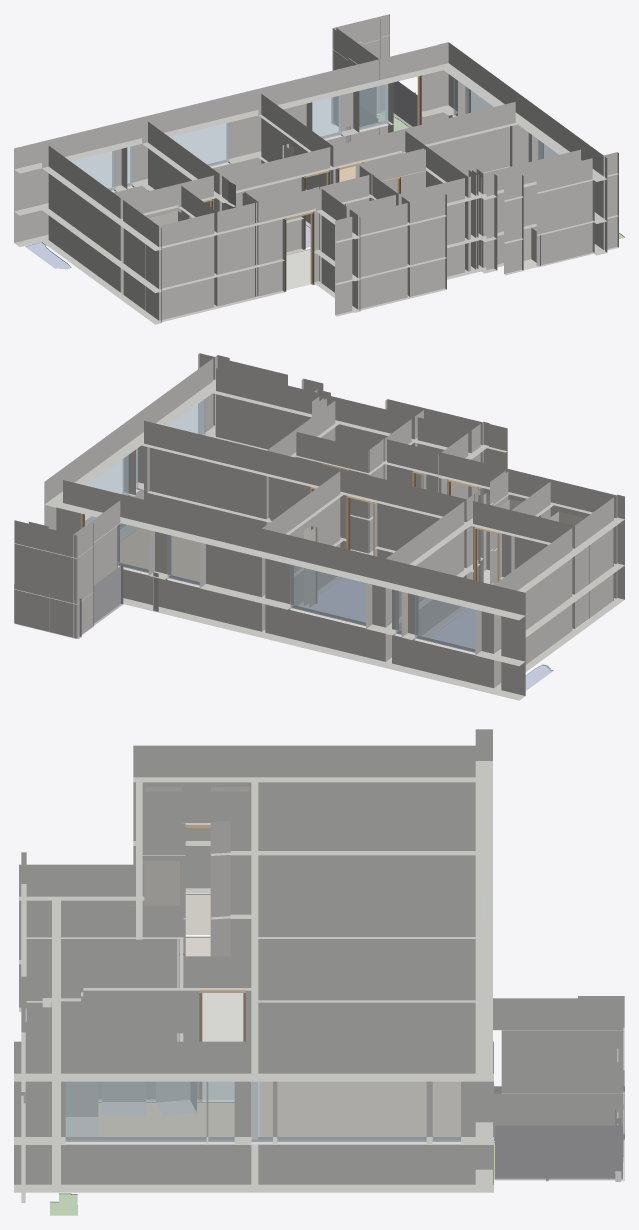
The picture shows the model from 3 angles, top to bottom: view 1: azimuth 30°, elevation 25°; view 2: azimuth 150°, elevation 25°; view 3: azimuth 270°, elevation 25°; orthographic projection. The views are drawn at different scales.
Visible parts, largest first — view 1: walls, window_5, railings, window_11, window_13, window_6, floor_5_Undefined, furniture_13_appliance, door_7, floor_12_Bed_Room, furniture_2_closet, window_3; view 2: walls, window_5, window_6, floor_2_Living_Room, railings, floor_1_Bed_Room, window_13, window_11, floor_0_Bed_Room, window_3, window_1; view 3: walls, floor_2_Living_Room, window_3, window_1, railings, floor_6_Kitchen, floor_5_Undefined, window_15, furniture_12_appliance, window_9, furniture_5_closet, furniture_16_sink (+5 smaller).
Boxes of the visible parts, x1=… form: walls: x1=14, y1=14, x2=618, y2=324; window_5: x1=168, y1=120, x2=229, y2=166; railings: x1=331, y1=81, x2=417, y2=142; window_11: x1=359, y1=84, x2=388, y2=129; window_13: x1=312, y1=95, x2=341, y2=138; window_6: x1=71, y1=150, x2=115, y2=190; floor_5_Undefined: x1=286, y1=249, x2=310, y2=290; furniture_13_appliance: x1=518, y1=227, x2=540, y2=270; door_7: x1=285, y1=211, x2=314, y2=291; floor_12_Bed_Room: x1=25, y1=242, x2=71, y2=269; furniture_2_closet: x1=122, y1=211, x2=188, y2=303; window_3: x1=465, y1=81, x2=498, y2=113; walls: x1=14, y1=353, x2=624, y2=700; window_5: x1=290, y1=565, x2=365, y2=625; window_6: x1=415, y1=595, x2=475, y2=652; floor_2_Living_Room: x1=120, y1=528, x2=199, y2=581; railings: x1=14, y1=565, x2=158, y2=638; floor_1_Bed_Room: x1=302, y1=577, x2=365, y2=622; window_13: x1=167, y1=535, x2=199, y2=585; window_11: x1=118, y1=523, x2=148, y2=572; floor_0_Bed_Room: x1=428, y1=608, x2=474, y2=648; window_3: x1=83, y1=455, x2=128, y2=525; window_1: x1=168, y1=398, x2=205, y2=435; walls: x1=14, y1=729, x2=624, y2=1202; floor_2_Living_Room: x1=259, y1=1082, x2=460, y2=1136; window_3: x1=277, y1=1081, x2=426, y2=1141; window_1: x1=65, y1=1077, x2=206, y2=1141; railings: x1=494, y1=1086, x2=624, y2=1181; floor_6_Kitchen: x1=98, y1=1102, x2=234, y2=1136; floor_5_Undefined: x1=202, y1=993, x2=243, y2=1099; window_15: x1=432, y1=1081, x2=460, y2=1141; furniture_12_appliance: x1=66, y1=1082, x2=97, y2=1136; window_9: x1=208, y1=1081, x2=234, y2=1141; furniture_5_closet: x1=143, y1=861, x2=179, y2=905; furniture_16_sink: x1=102, y1=1082, x2=145, y2=1115.
Size of the model in its own units: 13.88 by 2.72 by 10.46.
